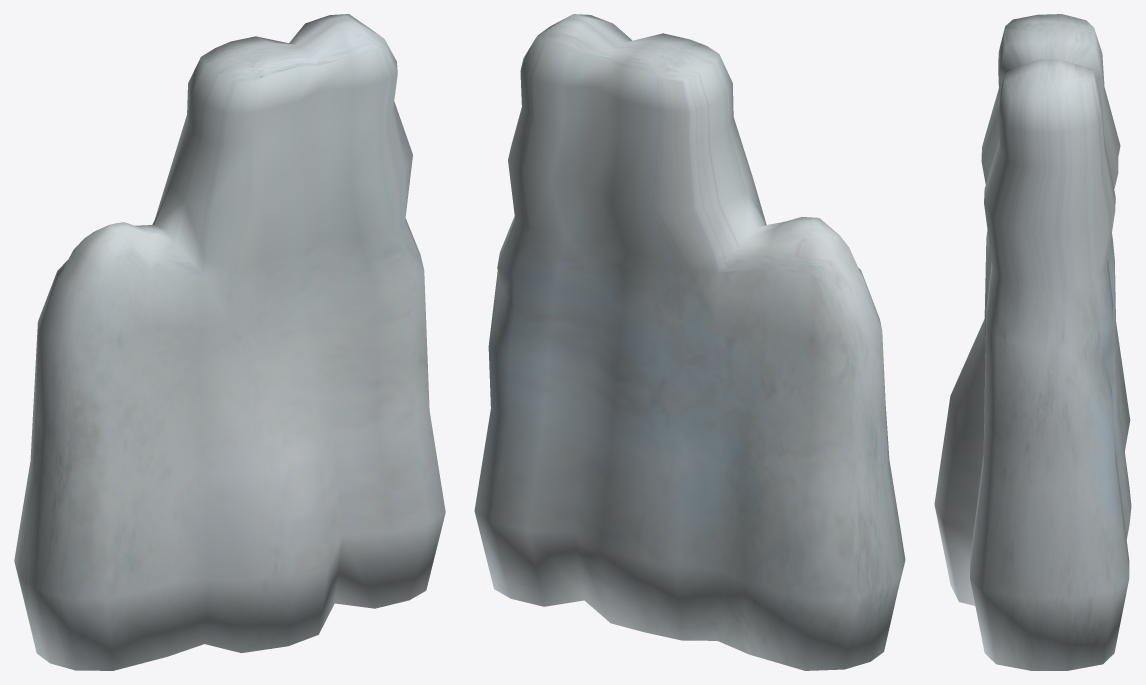
Rendered from P_RockDesert_HoodooCliff08.obj.
3 views of the same model, side by side, from view 1: azimuth 30°, elevation 25°; view 2: azimuth 150°, elevation 25°; view 3: azimuth 270°, elevation 25° (orthographic).
Bounding box in the file's own units: 44.58 × 60.24 × 18.69.
